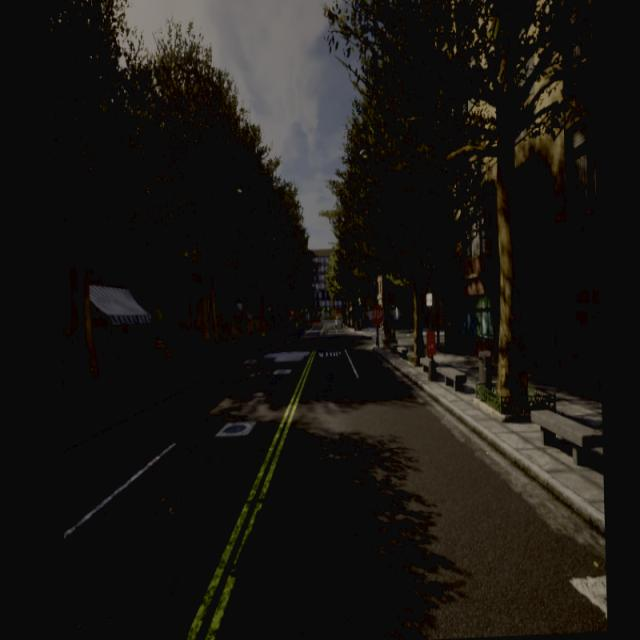stop sign: (367, 303, 386, 327)
